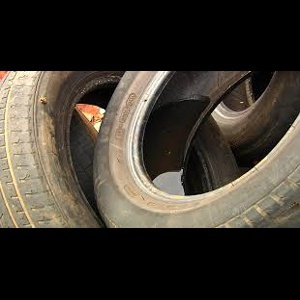tire: (1, 70, 241, 229), (93, 70, 300, 228)
